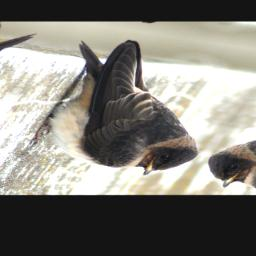Swallow: (0, 33, 256, 182)
